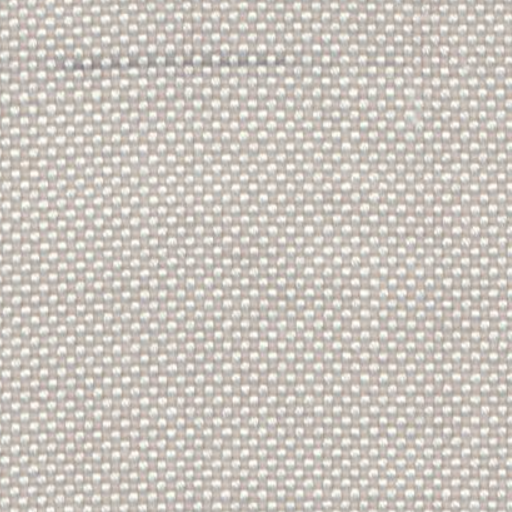WuZi: (53, 39, 288, 80)
